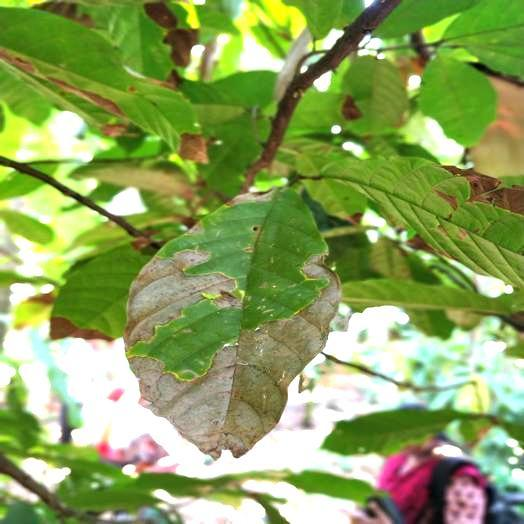Potassium: (124, 188, 339, 456)
